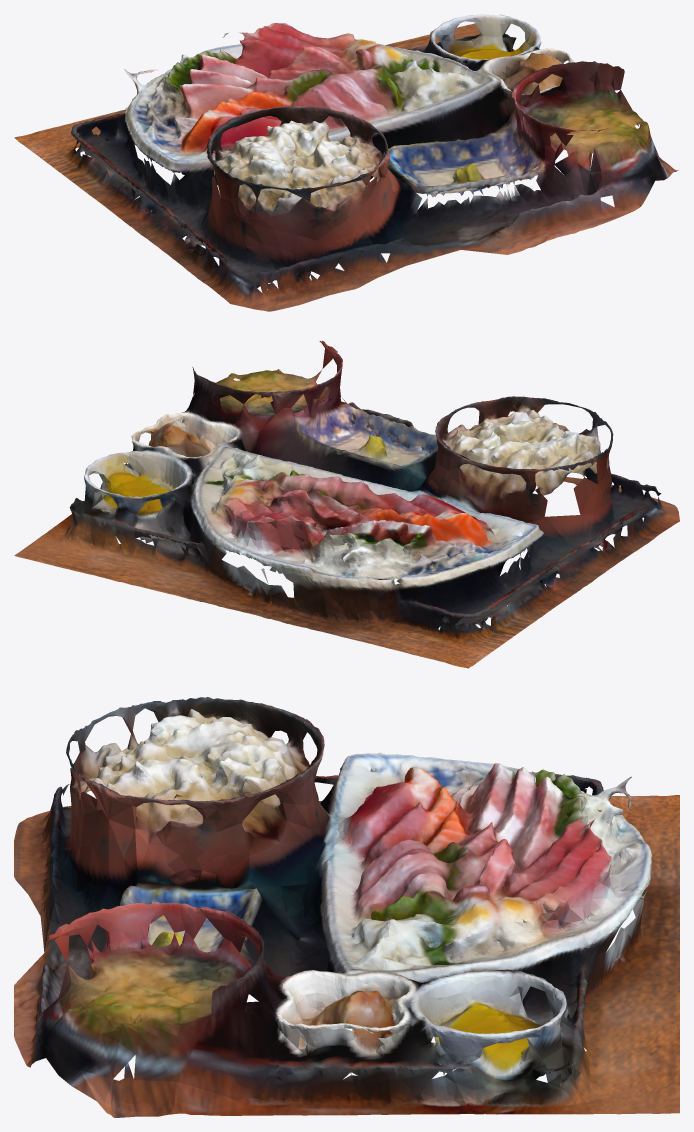
Rendered from sushi.glb.
3 renders of one model, top to bottom at view 1: azimuth 30°, elevation 25°; view 2: azimuth 150°, elevation 25°; view 3: azimuth 270°, elevation 25°, orthographic. The views are drawn at different scales.
Parts seen in each view (by area): view 1: mesh; view 2: mesh; view 3: mesh.
Part boxes in pixels (x1,y1,x2,y2): mesh: (14,14,678,311); mesh: (14,340,679,668); mesh: (14,697,679,1117).
Bounding box in the file's own units: 0.3878 × 0.08 × 0.3398.
Materials: 1 (1 with a texture image).
